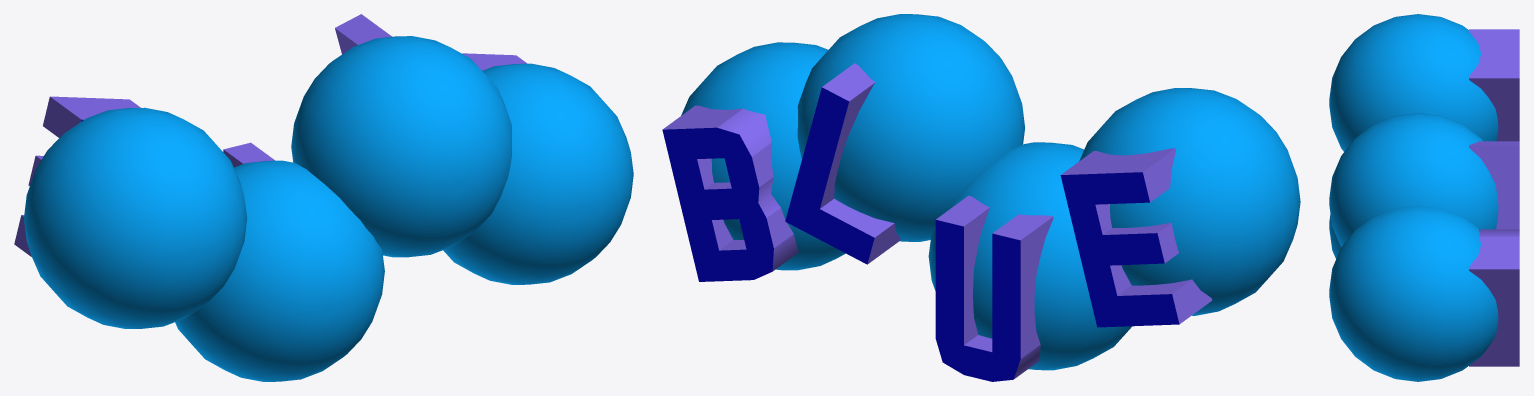
File: blue.glb
3 views of the same model, side by side, from view 1: azimuth 30°, elevation 25°; view 2: azimuth 150°, elevation 25°; view 3: azimuth 270°, elevation 25° (orthographic). The views are drawn at different scales.
Visible parts, largest first — view 1: sphere (×4), E, L, U, B; view 2: sphere (×4), B, E, U, L; view 3: sphere (×4), B, E, L.
Part boxes in pixels (x1,y1,x2,y2): sphere (×4): (24, 36, 633, 381); E: (14, 96, 140, 256); L: (335, 14, 391, 54); U: (223, 142, 274, 167); B: (462, 53, 526, 70); sphere (×4): (681, 14, 1300, 370); B: (662, 105, 798, 281); E: (1060, 148, 1212, 327); U: (935, 195, 1053, 381); L: (785, 63, 900, 264); sphere (×4): (1329, 14, 1498, 381); B: (1469, 229, 1519, 366); E: (1469, 29, 1519, 141); L: (1469, 141, 1519, 229).
Size of the model in its own units: 2.1 by 1.02 by 0.75.
